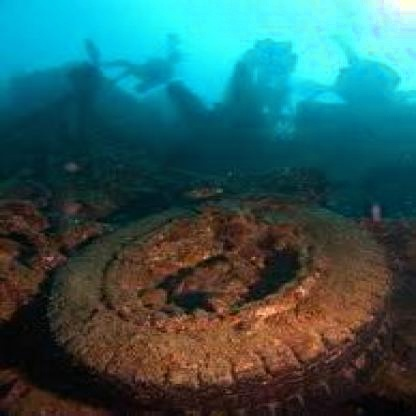tire: (49, 178, 412, 397)
